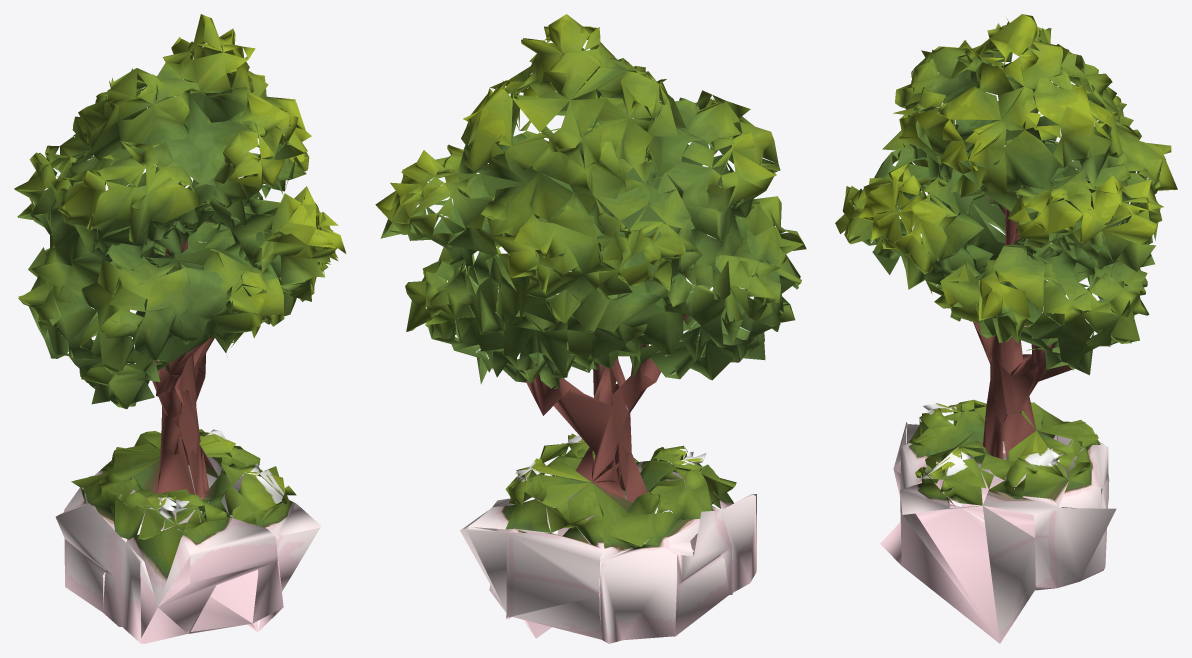
The model's file is M-10_05_streettree.glb.
The picture shows the model from 3 angles, left to right: view 1: azimuth 30°, elevation 25°; view 2: azimuth 150°, elevation 25°; view 3: azimuth 270°, elevation 25°; orthographic projection. The views are drawn at different scales.
Visible parts, largest first — view 1: streettree; view 2: streettree; view 3: streettree.
Boxes of the visible parts, <box> form: streettree: <box>14,14,346,643</box>; streettree: <box>375,14,806,643</box>; streettree: <box>835,14,1177,643</box>.
Bounding box in the file's own units: 4.53 × 8.36 × 4.26.
Materials: 1 (1 with a texture image).
